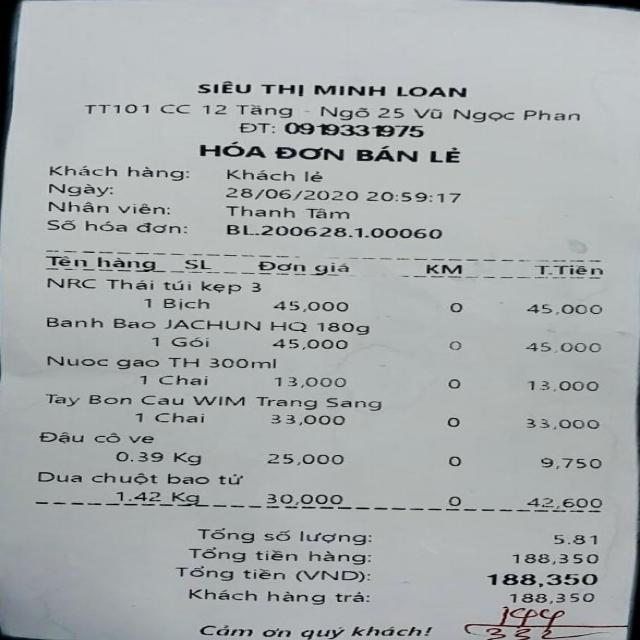Date: (212, 186, 364, 205)
Store_Name: (185, 73, 474, 102)
Total_Amount: (1, 565, 621, 590)
